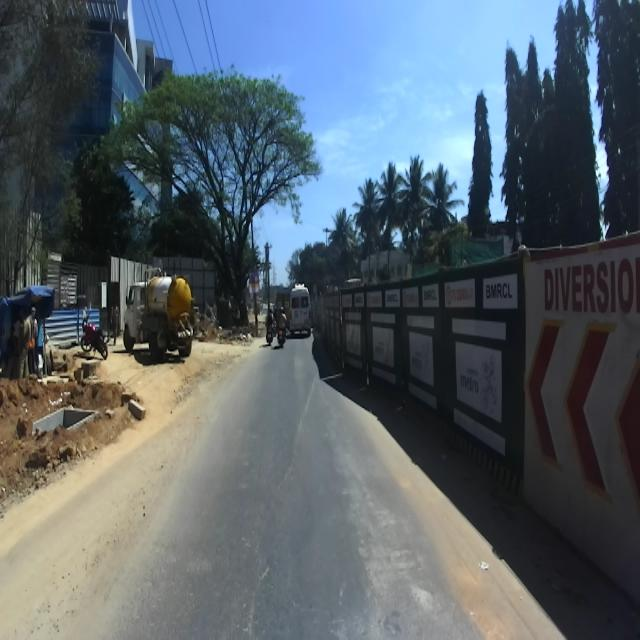stones ahead at: (16, 366, 145, 464)
truck ahead at: (122, 271, 201, 364)
